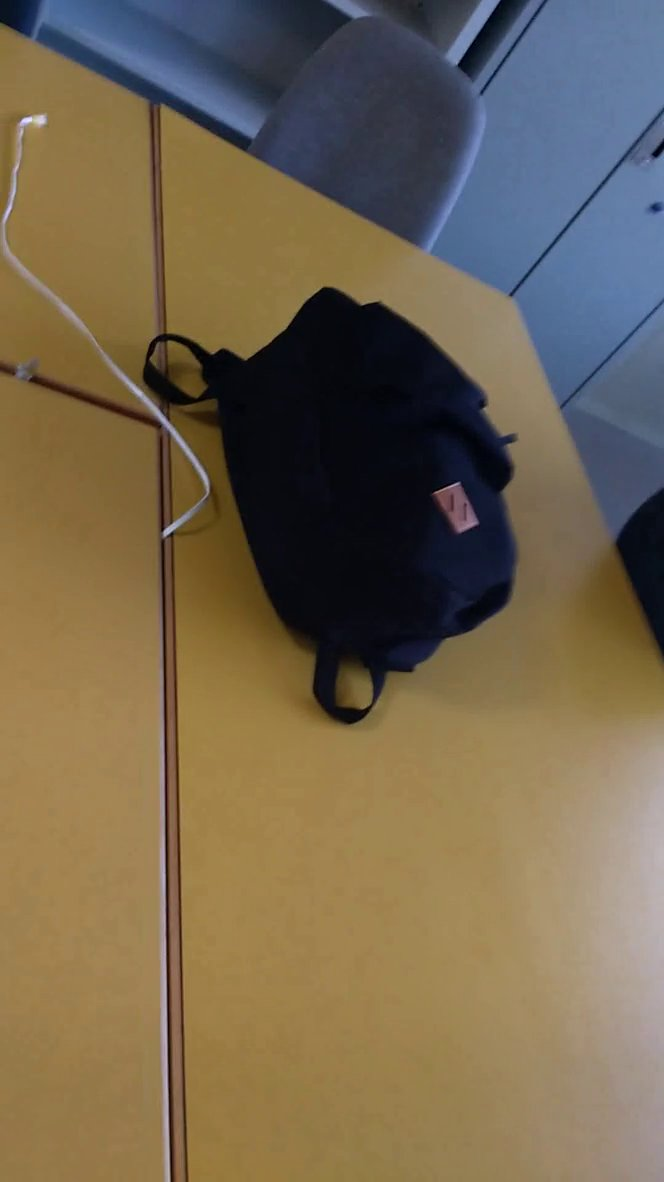bag: (130, 280, 534, 734)
chair: (246, 2, 497, 284)
